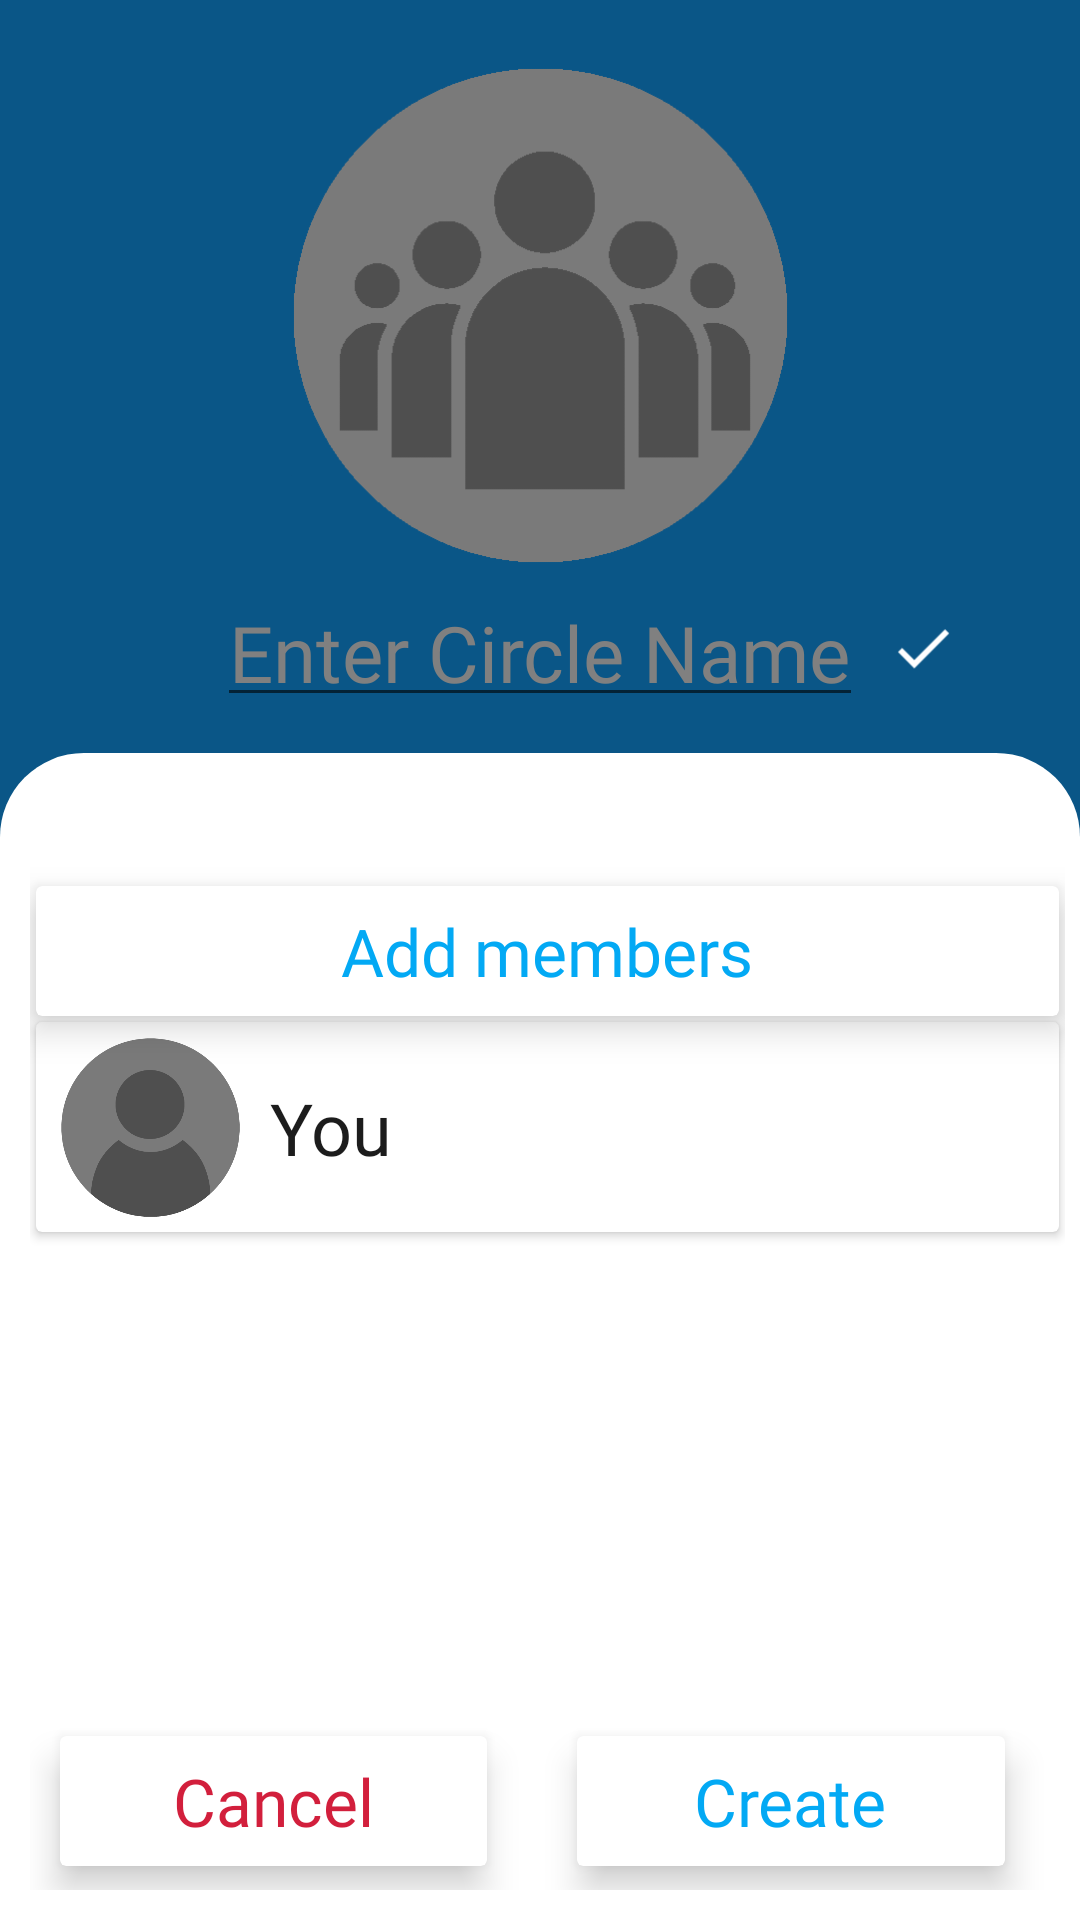

Icon bounding boxes for this 1080*1920 phone screenshot, format (x1, y1, x2, y2):
done: (898, 629, 949, 669)
